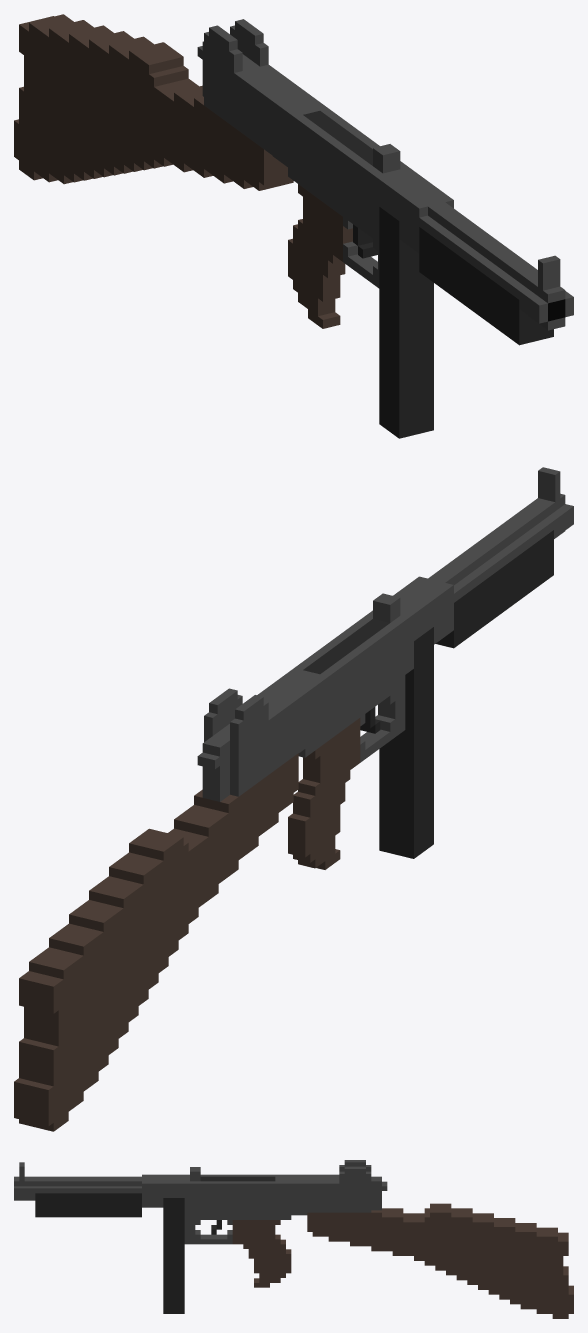
The model's file is SMG_2.obj.
3 views of the same model, one above another, from view 1: azimuth 30°, elevation 25°; view 2: azimuth 150°, elevation 25°; view 3: azimuth 270°, elevation 25° (orthographic). The views are drawn at different scales.
Bounding box in the file's own units: 4 × 31 × 105.
